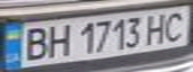1: (75, 19, 96, 55), (109, 16, 130, 51)
3: (124, 15, 145, 48)
7: (93, 17, 112, 52)
B: (18, 25, 51, 62)
C: (160, 8, 190, 43)
H: (42, 21, 72, 59), (142, 10, 172, 45)
